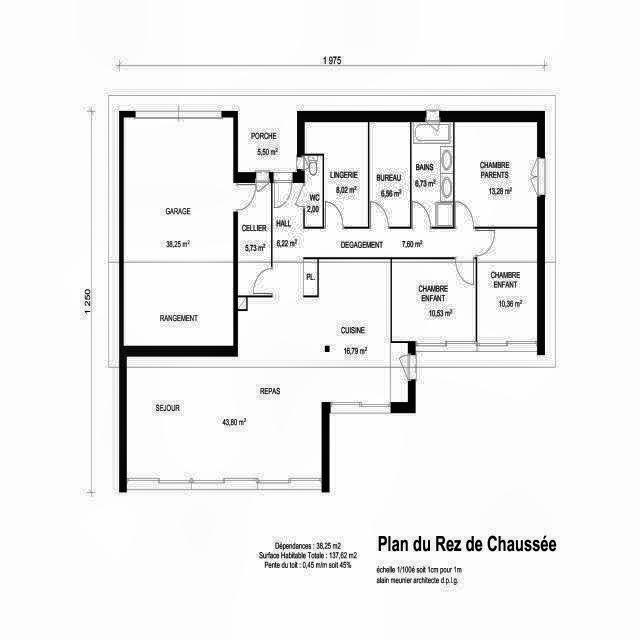room: (80, 118, 487, 573), (105, 94, 215, 322), (454, 122, 537, 227), (392, 259, 476, 341), (477, 229, 537, 343), (305, 122, 368, 227), (411, 122, 453, 227), (369, 122, 410, 227), (238, 183, 271, 295), (305, 156, 323, 227)
